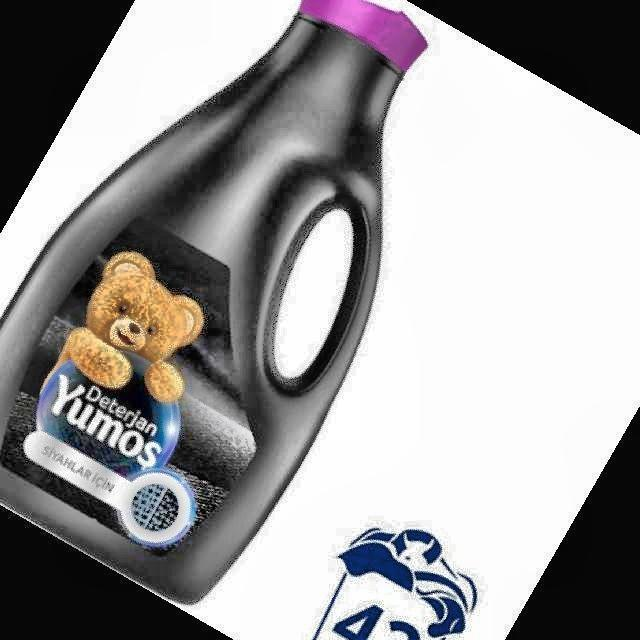plastic: (0, 0, 426, 603)
